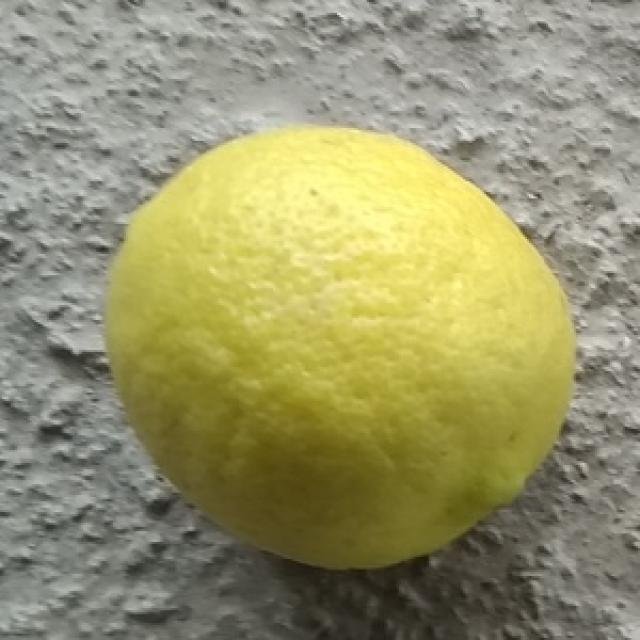Ripe: (91, 121, 585, 572)
